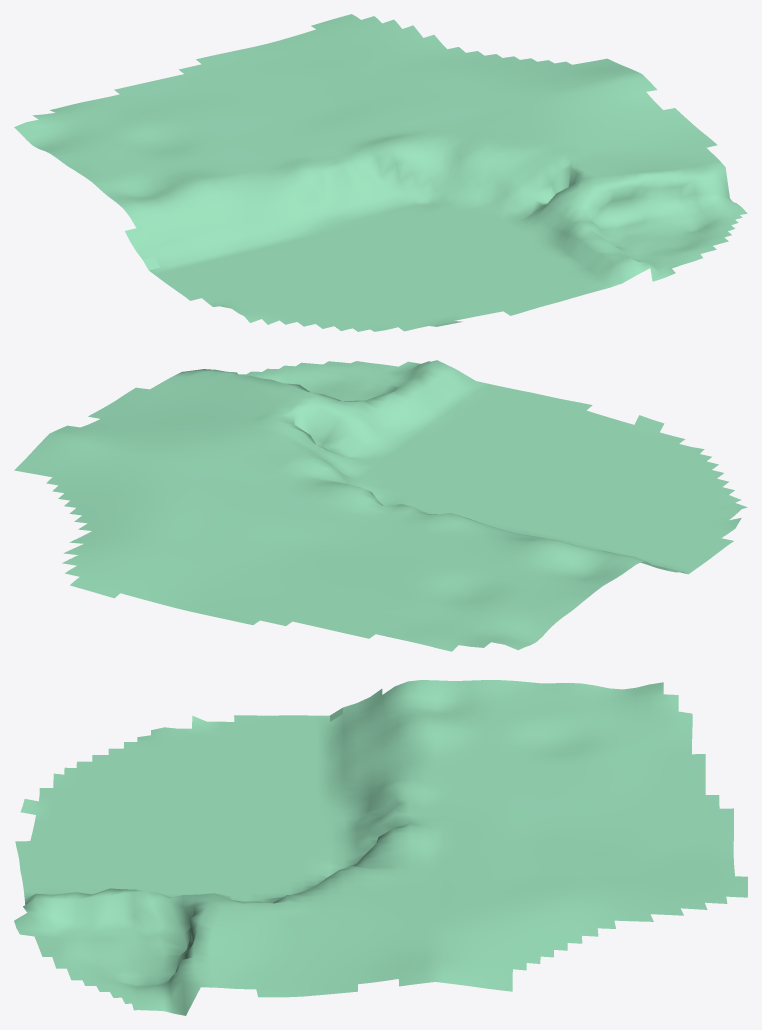
Rendered from Town_Base.FBX.
3 renders of one model, top to bottom at view 1: azimuth 30°, elevation 25°; view 2: azimuth 150°, elevation 25°; view 3: azimuth 270°, elevation 25°, orthographic. The views are drawn at different scales.
Parts seen in each view (by area): view 1: Terrain; view 2: Terrain; view 3: Terrain.
Boxes of the visible parts, <box> form: Terrain: <box>14,14,747,331</box>; Terrain: <box>14,360,747,651</box>; Terrain: <box>14,680,747,1015</box>.
Size of the model in its own units: 2823 by 283 by 2892.
